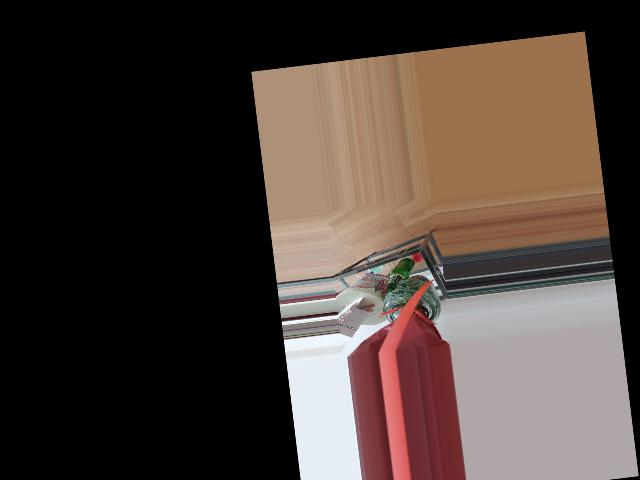beer: (382, 257, 418, 291)
